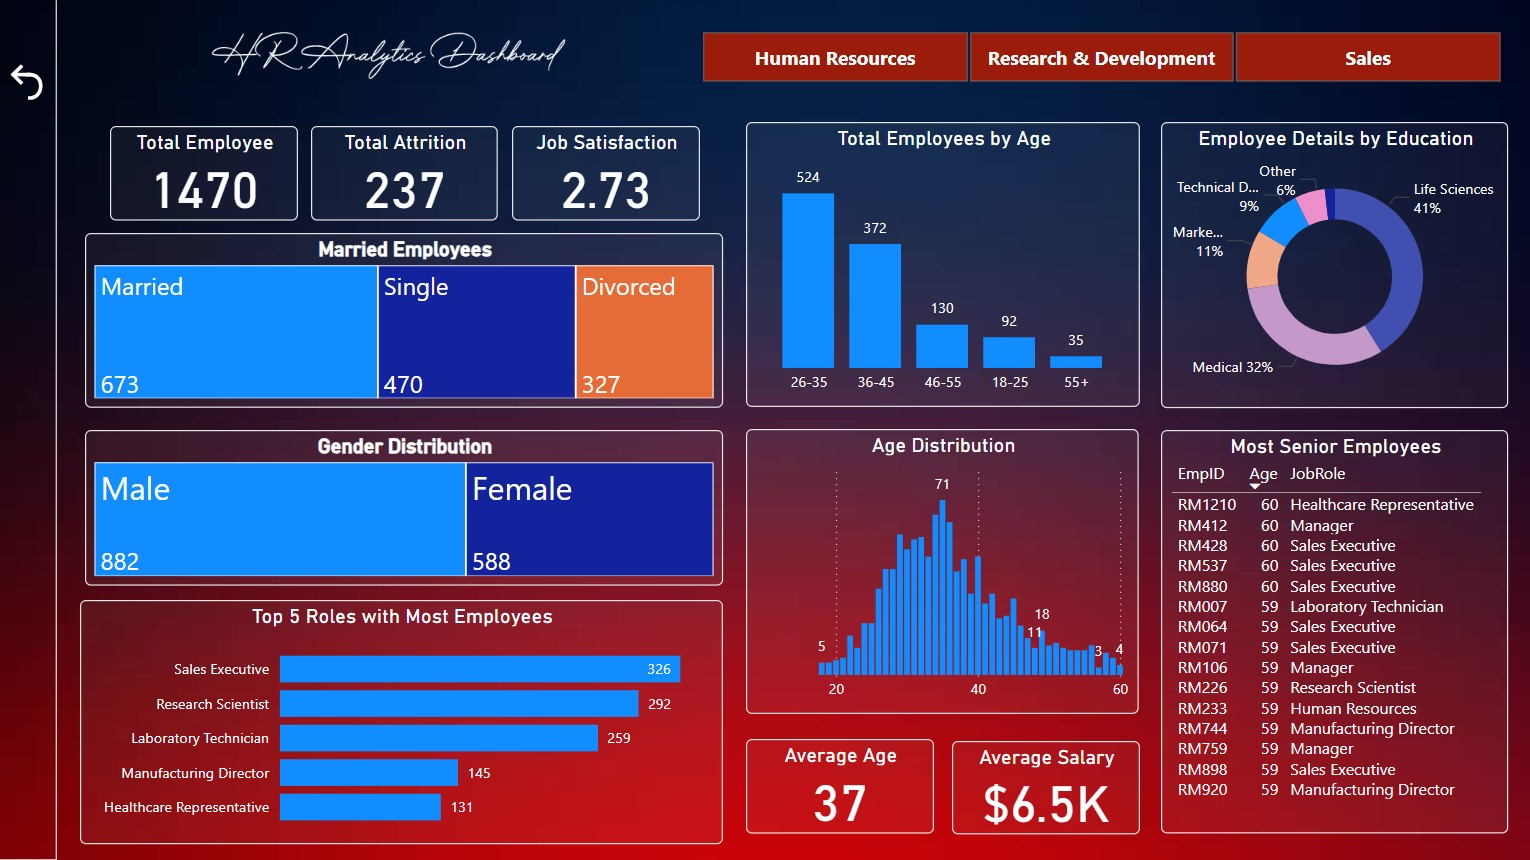

Layout of this report page (visuals, bound fields, positions):
{"tool":"powerbi","page":{"name":"HR Dashboard","canvas":[1280,720],"ordinal":0},"visuals":[{"type":"card","title":"Total Employee","fields":{"Values":["All Measures.Total Employees"]},"box":[94,107.3,156.9,78.9],"z":0},{"type":"card","title":"Total Attrition","fields":{"Values":["All Measures.Total Attrition"]},"box":[262.5,107.3,156.1,78.9],"z":1000},{"type":"shape","box":[0,0,50,720.3],"z":2000},{"type":"slicer","fields":{"Values":["HR_Analytics.Department"]},"box":[569.1,26.7,710.9,45.3],"z":3000},{"type":"actionButton","box":[5,50,40,39.9],"z":4000},{"type":"treemap","title":"Married Employees","fields":{"Group":["HR_Analytics.MaritalStatus"],"Values":["All Measures.Total Employees"]},"box":[73.6,196,532.9,146.3],"z":5000},{"type":"treemap","title":"Gender Distribution","fields":{"Group":["HR_Analytics.Gender"],"Values":["All Measures.Total Employees"]},"box":[73.6,360.9,532.9,130.3],"z":6000},{"type":"clusteredBarChart","title":"Top 5 Roles with Most Employees","fields":{"Category":["HR_Analytics.JobRole"],"Y":["All Measures.Total Employees"]},"box":[69.7,502.9,536.6,204.4],"z":7000},{"type":"clusteredColumnChart","title":"Total Employees by Age","fields":{"Category":["HR_Analytics.AgeGroup"],"Y":["All Measures.Total Employees"]},"box":[625.5,103.8,329.2,238.4],"z":8000},{"type":"donutChart","title":"Employee Details by Education","fields":{"Y":["All Measures.Total Employees"],"Category":["HR_Analytics.EducationField"]},"box":[972.2,103.4,290.4,239.3],"z":9000},{"type":"tableEx","title":"Most Senior Employees","fields":{"Values":["HR_Analytics.EmpID","Sum(HR_Analytics.Age)","HR_Analytics.JobRole"]},"box":[972.2,360.5,290.4,336.8],"z":10000},{"type":"clusteredColumnChart","title":"Age Distribution","fields":{"Y":["All Measures.Total Employees"],"Category":["HR_Analytics.Age"]},"box":[625.5,360.2,328.2,238.4],"z":11000},{"type":"card","title":"Average Age","fields":{"Values":["All Measures.Employee Average Age"]},"box":[625.5,618.6,156.6,78.8],"z":12000},{"type":"card","title":"Average Salary","fields":{"Values":["All Measures.Average Salary Employee Monthly"]},"box":[798,620.3,156.8,77.8],"z":13000},{"type":"card","title":"Job Satisfaction","fields":{"Values":["All Measures.Average Job Satisfaction"]},"box":[430,107.3,156.9,78.9],"z":14000},{"type":"image","box":[73.2,23.2,507.6,48.8],"z":15000}]}

Visuals, with their boxes in screenshot pixels (x1, y1, x2, y2), scaled from the page's 1280x720 canvas onto the 1530x860 screenshot:
"Total Employee" card: {"x1": 112, "y1": 128, "x2": 300, "y2": 222}
"Total Attrition" card: {"x1": 314, "y1": 128, "x2": 500, "y2": 222}
shape: {"x1": 0, "y1": 0, "x2": 60, "y2": 859}
slicer - HR_Analytics.Department: {"x1": 680, "y1": 32, "x2": 1529, "y2": 86}
actionButton: {"x1": 6, "y1": 60, "x2": 54, "y2": 107}
"Married Employees" treemap: {"x1": 88, "y1": 234, "x2": 725, "y2": 409}
"Gender Distribution" treemap: {"x1": 88, "y1": 431, "x2": 725, "y2": 587}
"Top 5 Roles with Most Employees" clusteredBarChart: {"x1": 83, "y1": 601, "x2": 725, "y2": 845}
"Total Employees by Age" clusteredColumnChart: {"x1": 748, "y1": 124, "x2": 1141, "y2": 409}
"Employee Details by Education" donutChart: {"x1": 1162, "y1": 124, "x2": 1509, "y2": 409}
"Most Senior Employees" tableEx: {"x1": 1162, "y1": 431, "x2": 1509, "y2": 833}
"Age Distribution" clusteredColumnChart: {"x1": 748, "y1": 430, "x2": 1140, "y2": 715}
"Average Age" card: {"x1": 748, "y1": 739, "x2": 935, "y2": 833}
"Average Salary" card: {"x1": 954, "y1": 741, "x2": 1141, "y2": 834}
"Job Satisfaction" card: {"x1": 514, "y1": 128, "x2": 702, "y2": 222}
image: {"x1": 87, "y1": 28, "x2": 694, "y2": 86}
